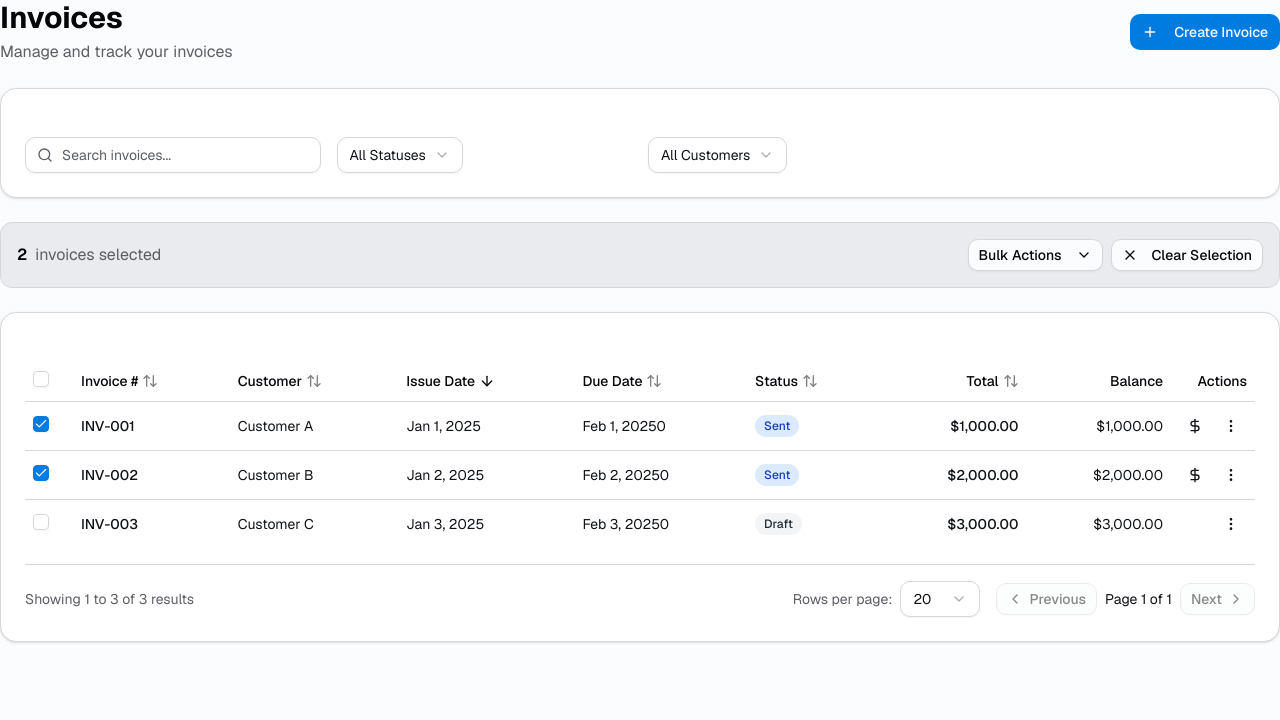
Test: Bulk PDF Export › Confirmation Modal › should open confirmation modal when Export PDFs clicked
What coordinates should you click on to do the following:
click the button "Bulk Actions"
I would click on:
 (1035, 255)
Its box is [968, 239, 1102, 271].
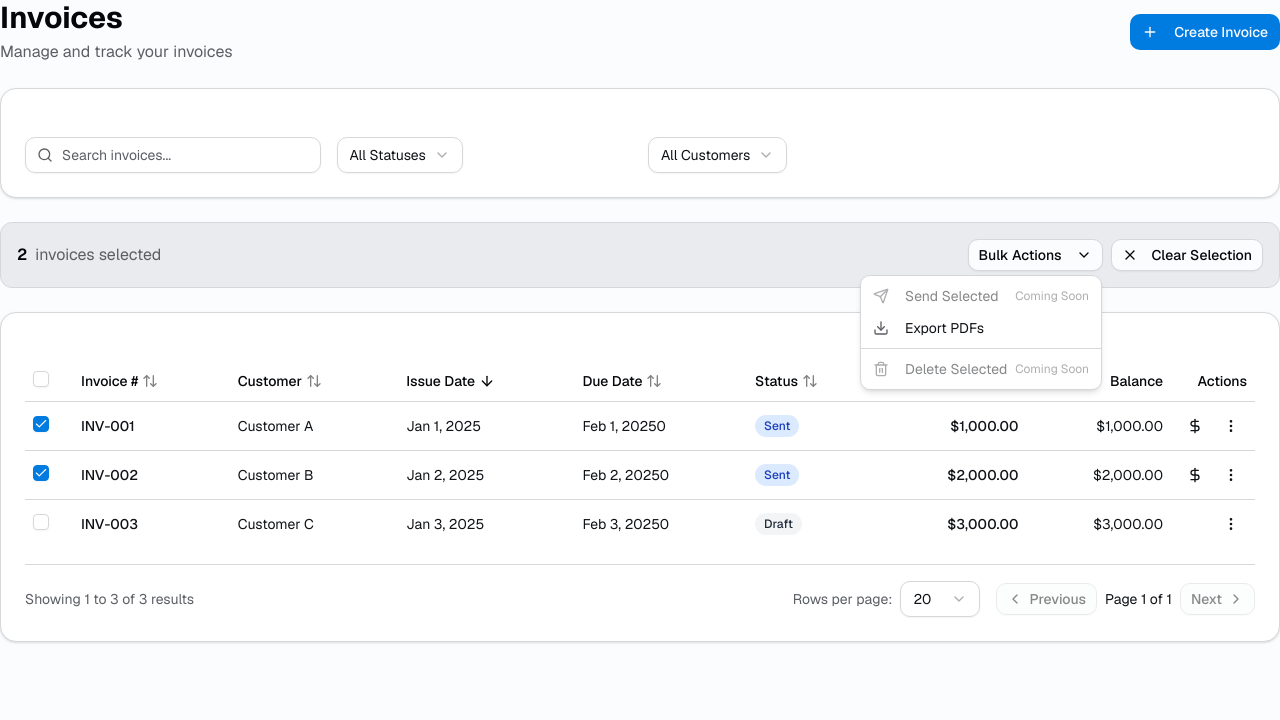
What coordinates should you click on to do the following:
click the menu item "Export PDFs"
I would click on:
 (929, 328)
Its box is [873, 319, 984, 337].
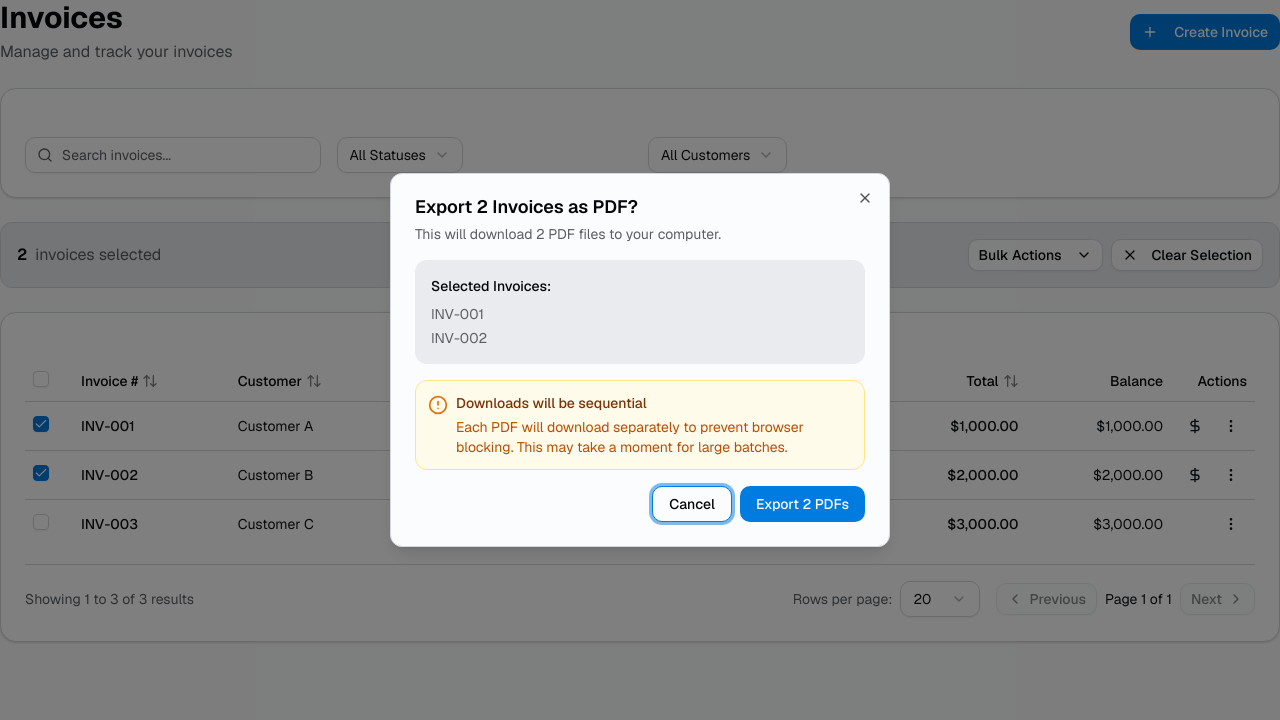
Result: the heading "Export 2 Invoices as PDF?" is shown at [415, 195, 638, 218]
Result: the text "This will download 2 PDF files to your computer." is shown at [415, 225, 721, 243]
